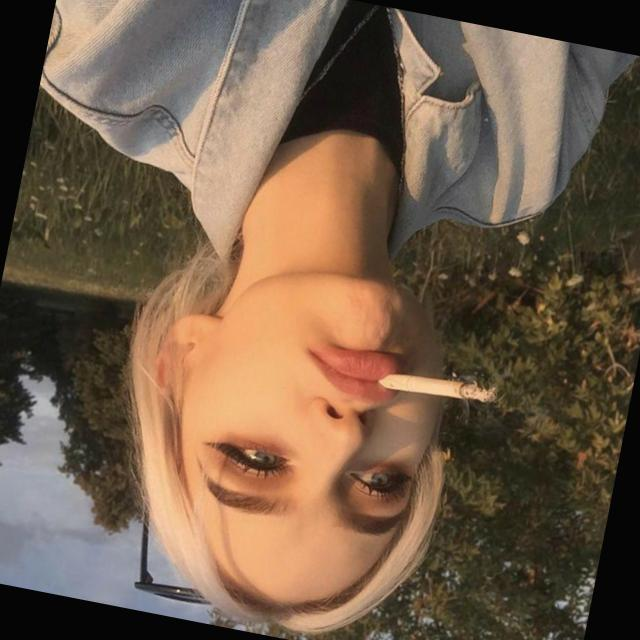smoke: (353, 339, 510, 436)
